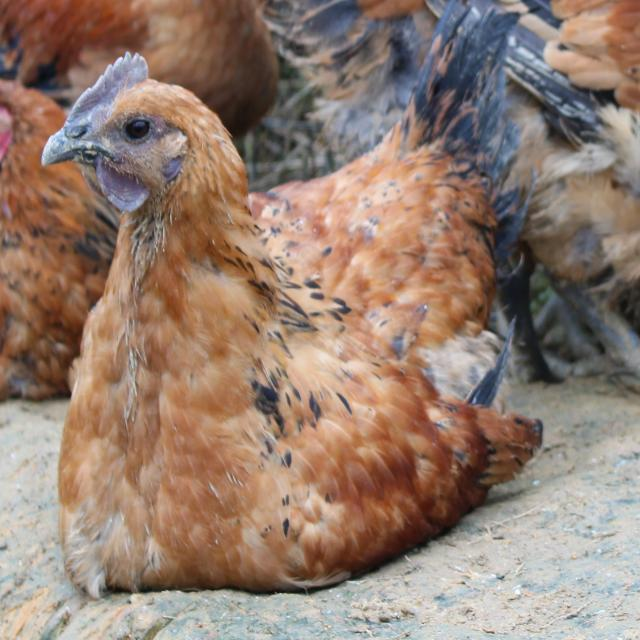hen: (23, 0, 552, 607)
